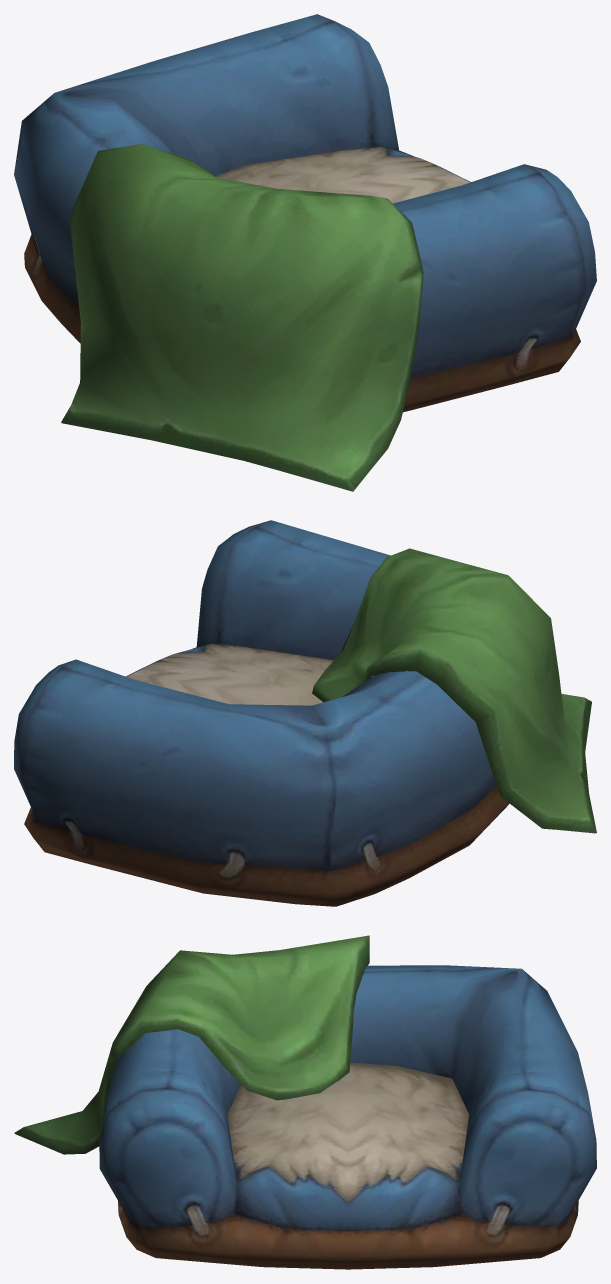
3 views of the same model, one above another, from view 1: azimuth 30°, elevation 25°; view 2: azimuth 150°, elevation 25°; view 3: azimuth 270°, elevation 25° (orthographic). The views are drawn at different scales.
Bounding box in the file's own units: 1.72 × 0.7152 × 2.05.
1 material, 1 textured.
